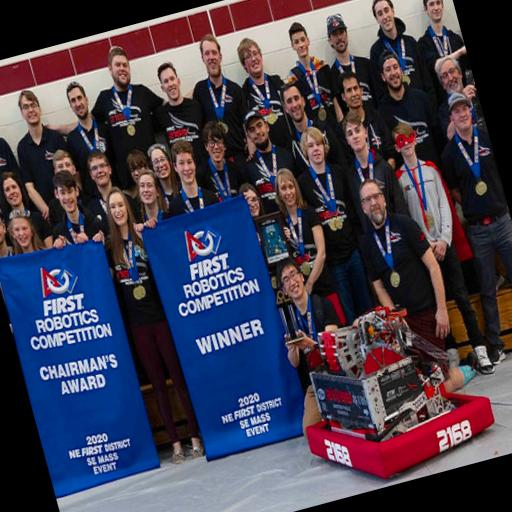robot: (278, 292, 502, 495)
